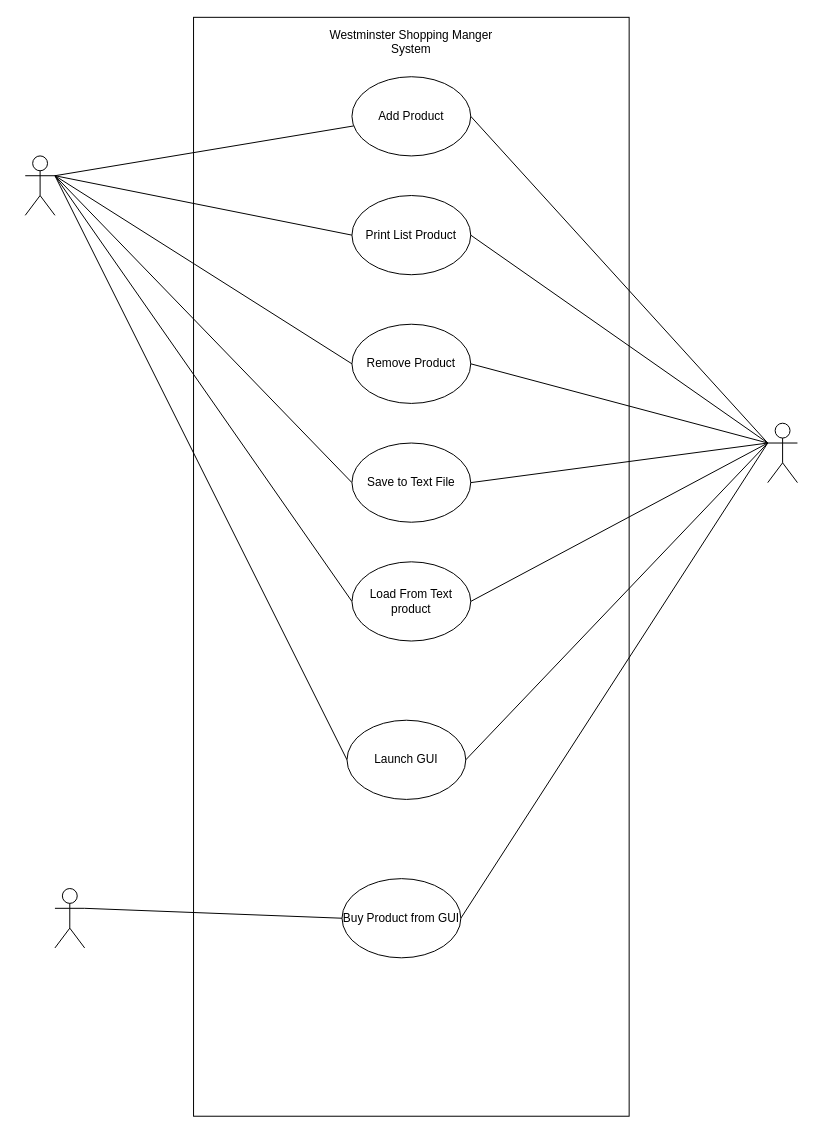
Some shapes in this 820 by 1134 pixel diagram are drawn without their labels. The shapes that lost their labels are listed below. From the top down, each one's box as (x1, y1, x2, y2) in pixels, then its label:
(24, 155, 55, 215): Manager
(767, 422, 797, 483): System
(54, 888, 85, 948): Customer
